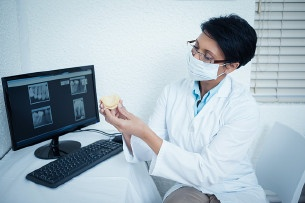Mask: (186, 37, 231, 83)
